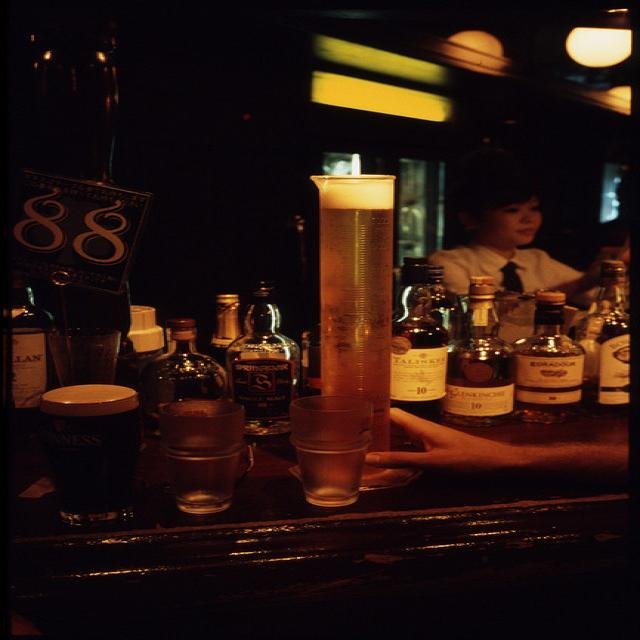Bottle: (434, 287, 516, 436), (226, 264, 297, 413), (150, 318, 253, 412), (516, 283, 584, 412), (392, 262, 448, 408), (580, 250, 640, 381)
Cup: (32, 375, 135, 529), (152, 389, 250, 531), (281, 387, 382, 505)
People: (422, 133, 569, 329)
